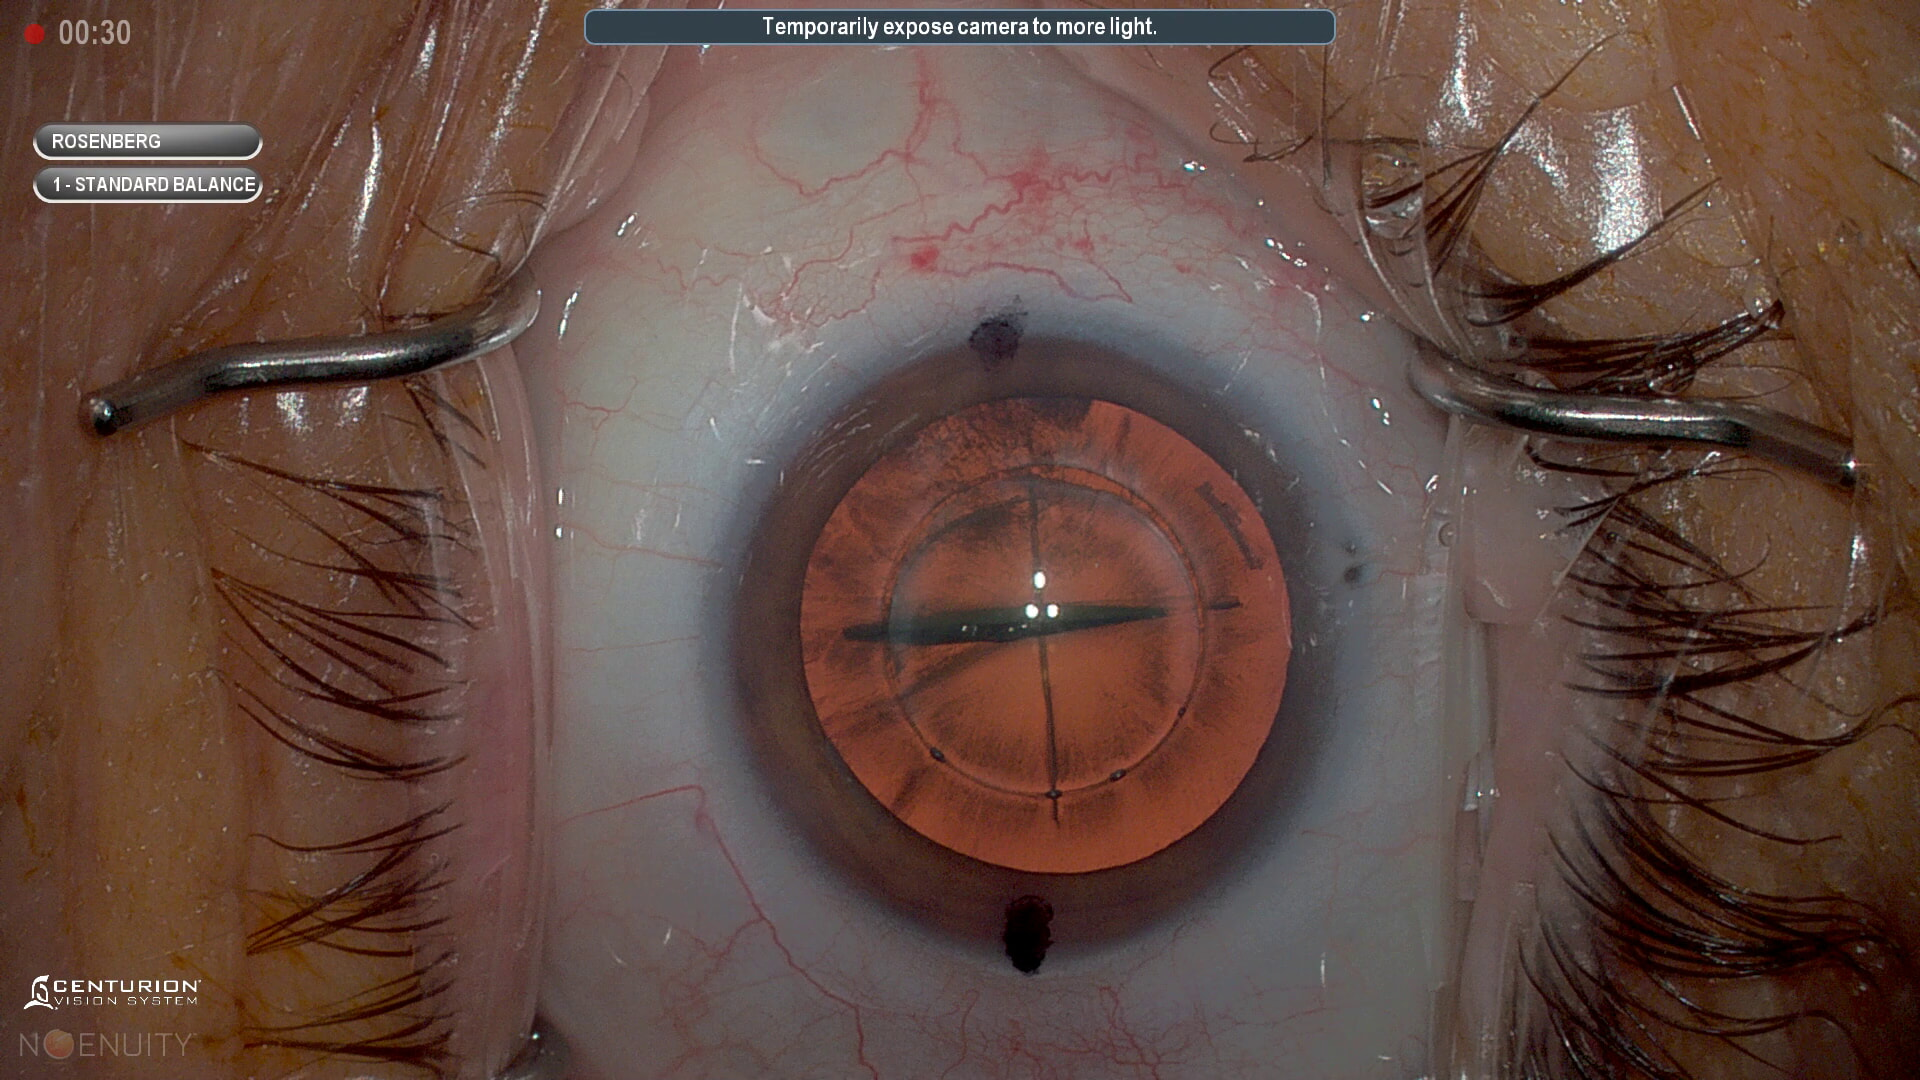iris: (732, 334, 1338, 963)
pupil: (796, 387, 1301, 863)
